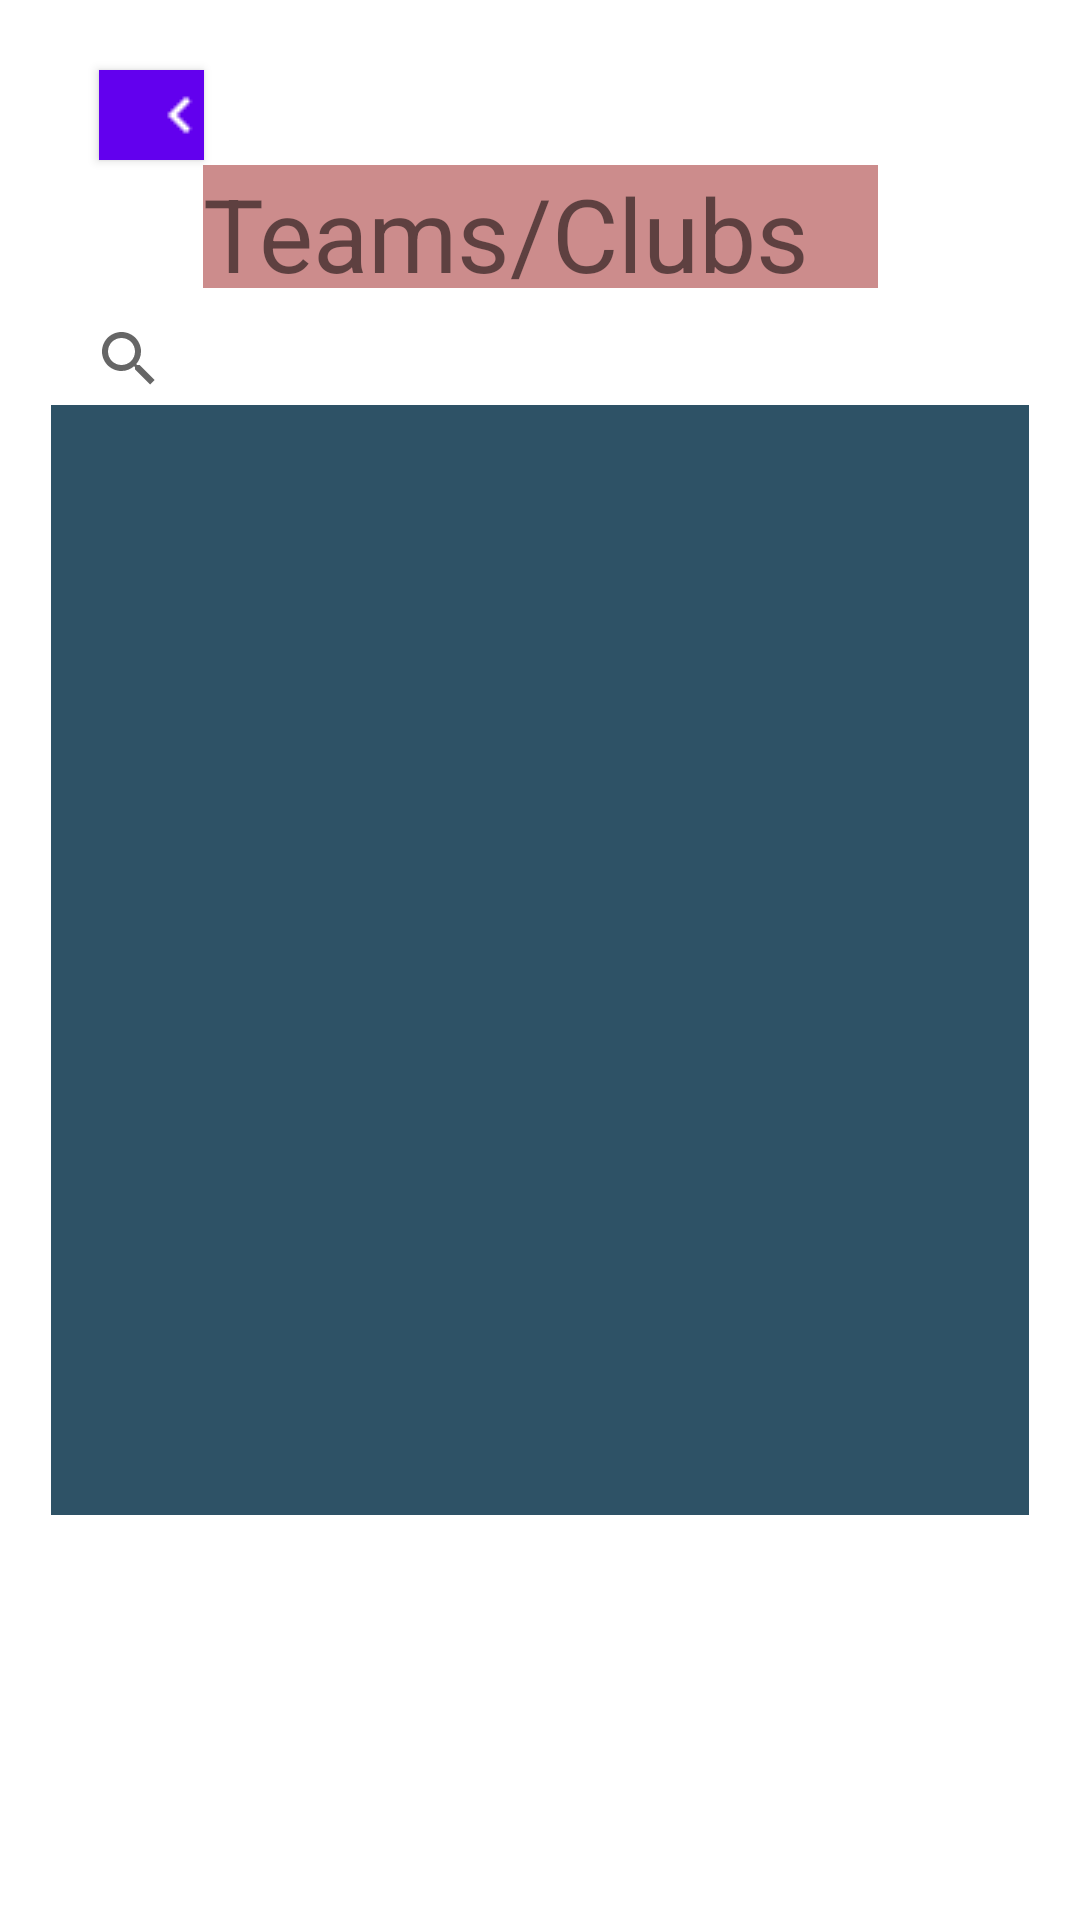

Where icons sit on this 1080 x 1920 app screen, as rect(x1, y1, x2, y2):
back: rect(99, 70, 204, 160)
